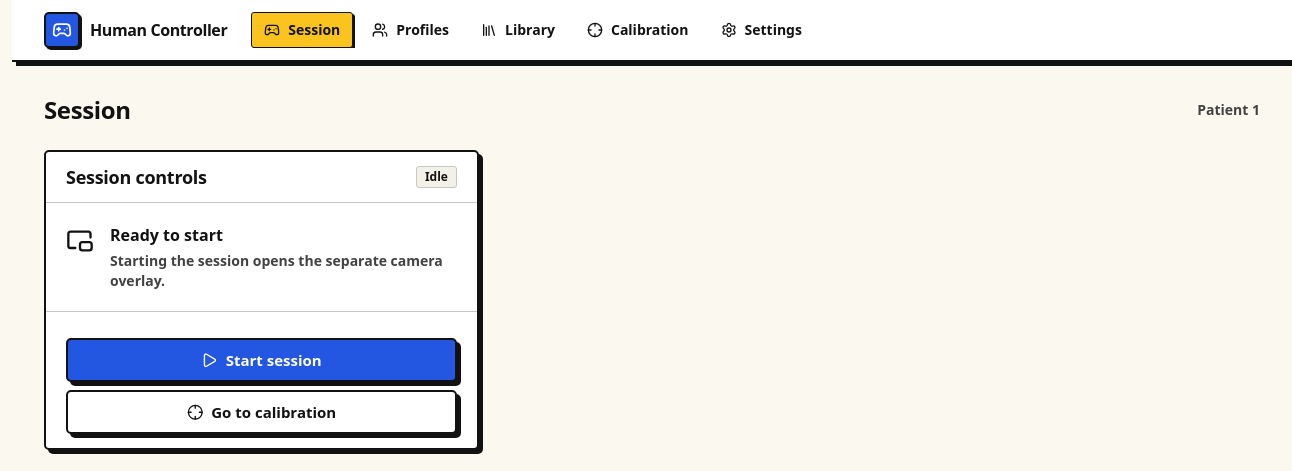
Test: Session Camera › keep session camera idle when navigating away
Click the button "Start session".
click(261, 360)  # box 66,338 -> 457,382
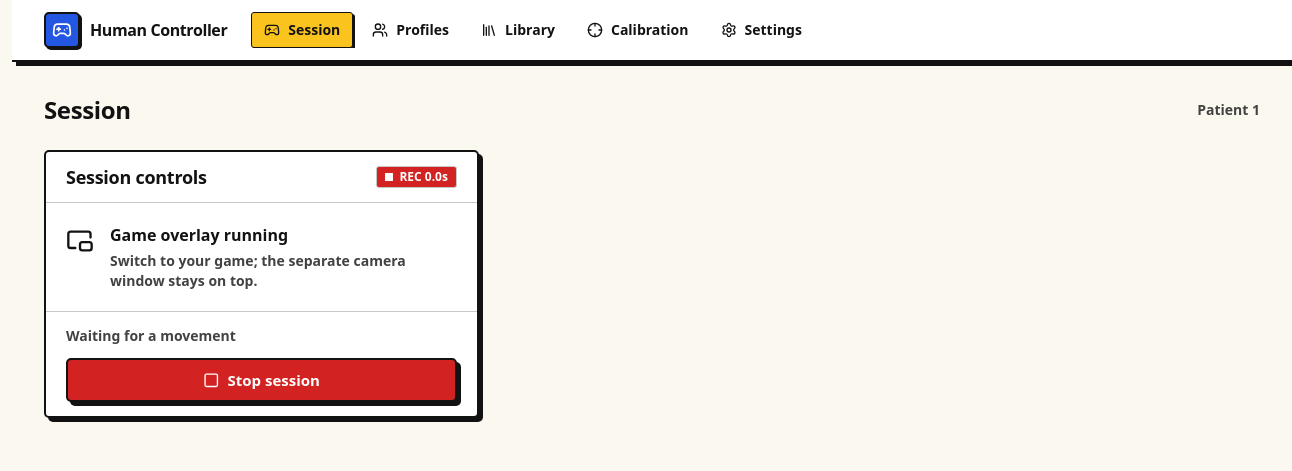
Click the button "Stop session".
click(261, 380)  # box 66,358 -> 457,402
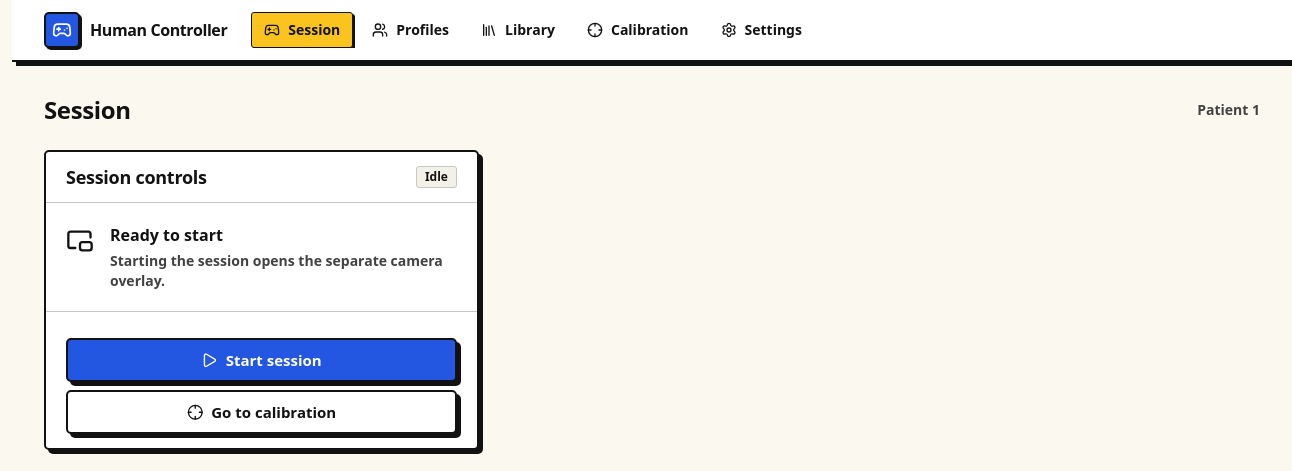
Click the link "Profiles".
click(411, 30)  # box 372,20 -> 449,39
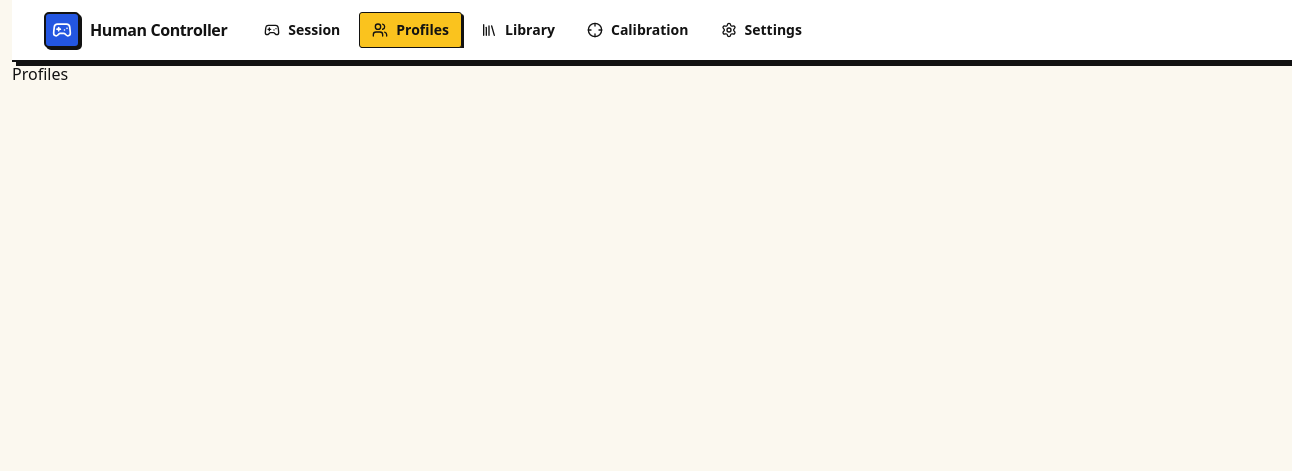
Click the link "Session".
click(302, 30)  # box 264,20 -> 340,39
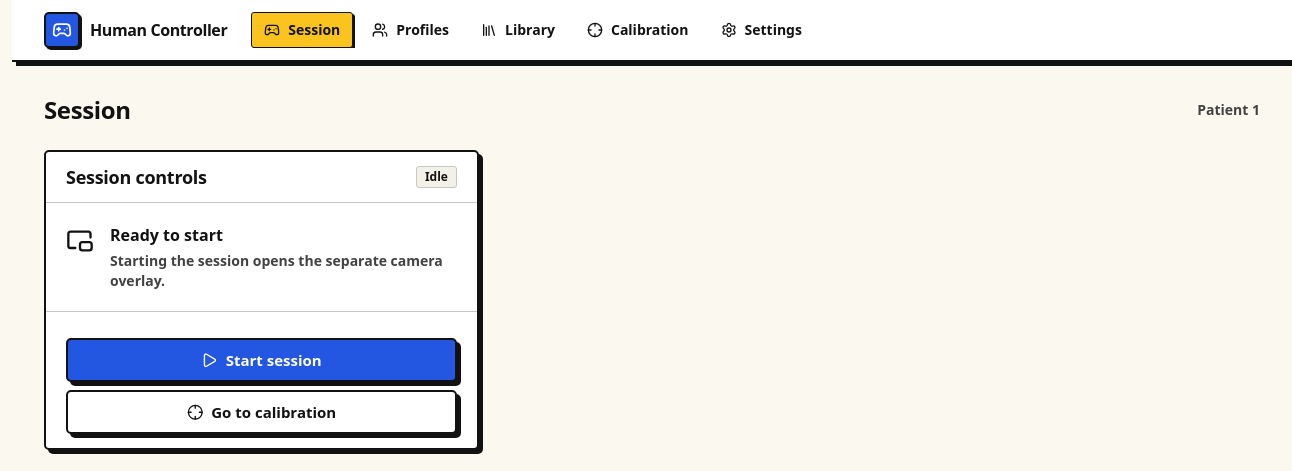
Now the button "Start session" is shown, box 66,338 -> 457,382
